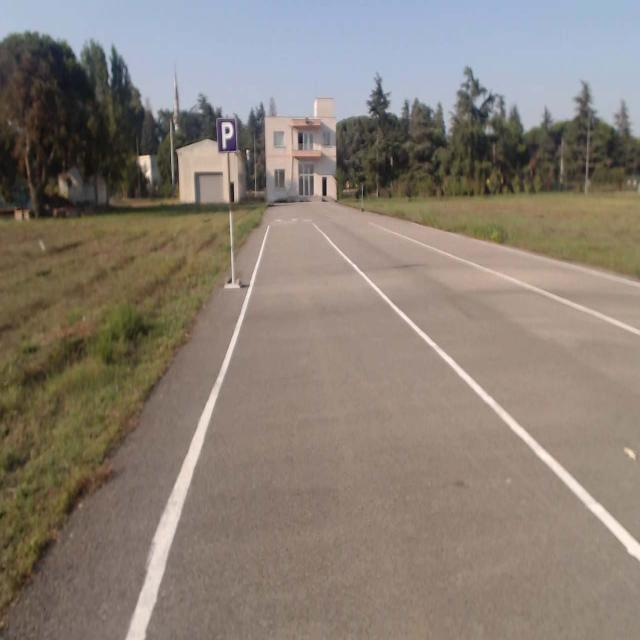park: (217, 117, 236, 153)
